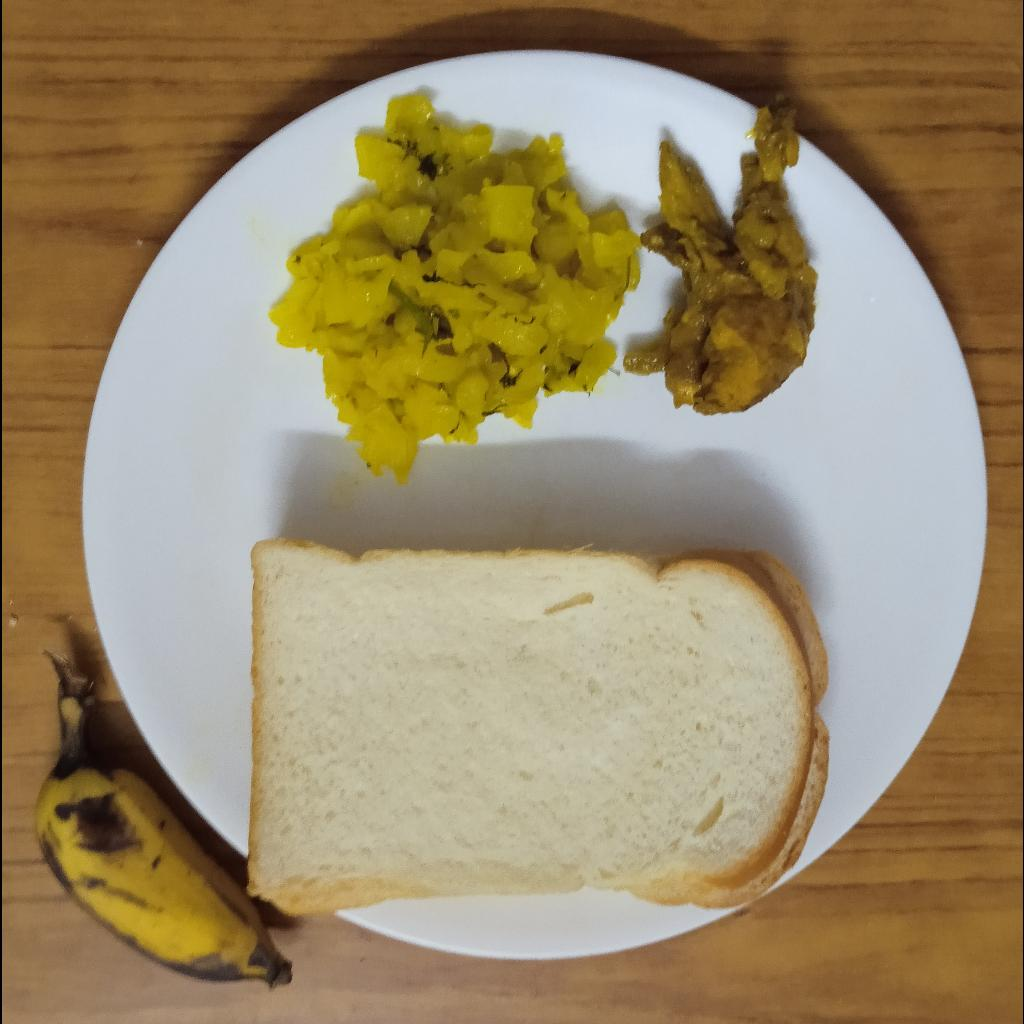banana: (34, 652, 293, 986)
bread: (244, 537, 829, 919)
chicken: (624, 93, 816, 415)
lau: (267, 95, 638, 483)
